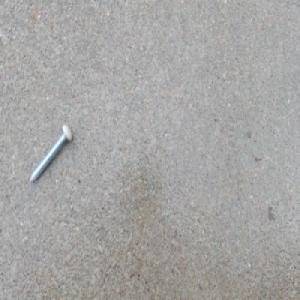Nail: (29, 120, 74, 184)
